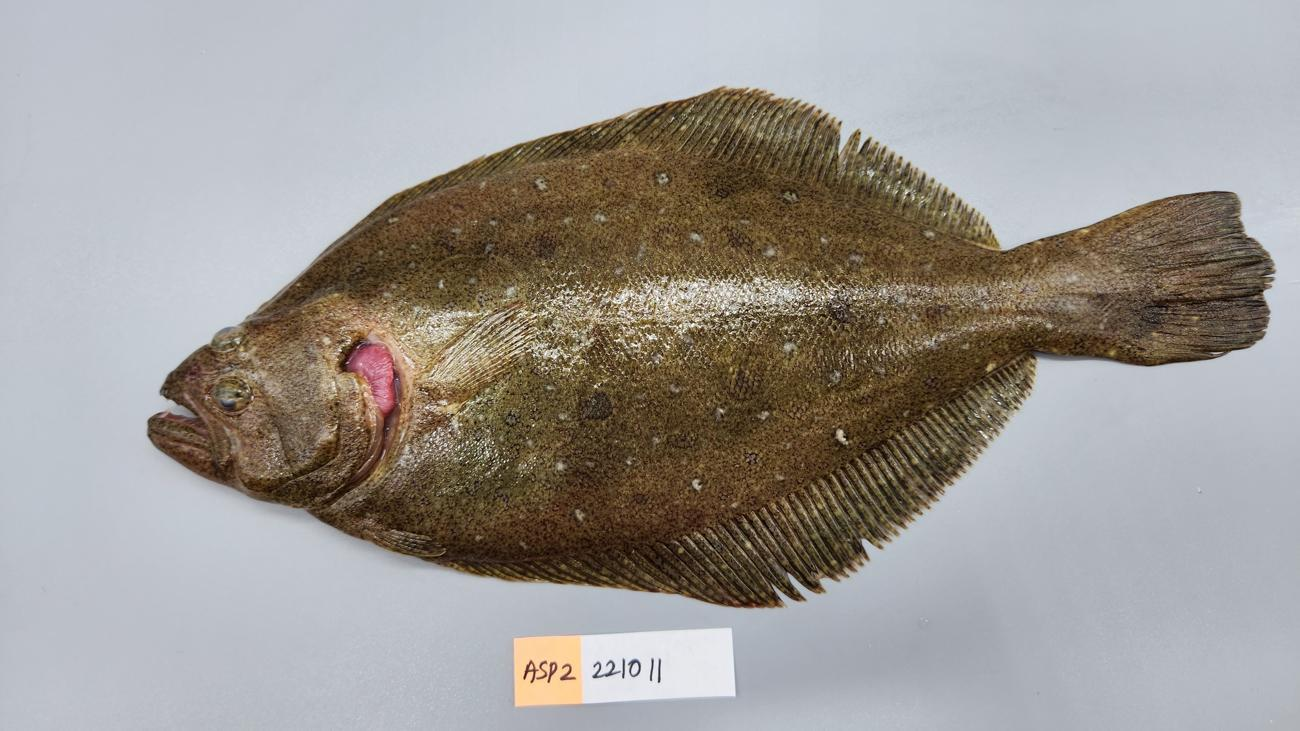SPFCH: (1109, 193, 1275, 367)
SPOUY: (138, 80, 1282, 611)
